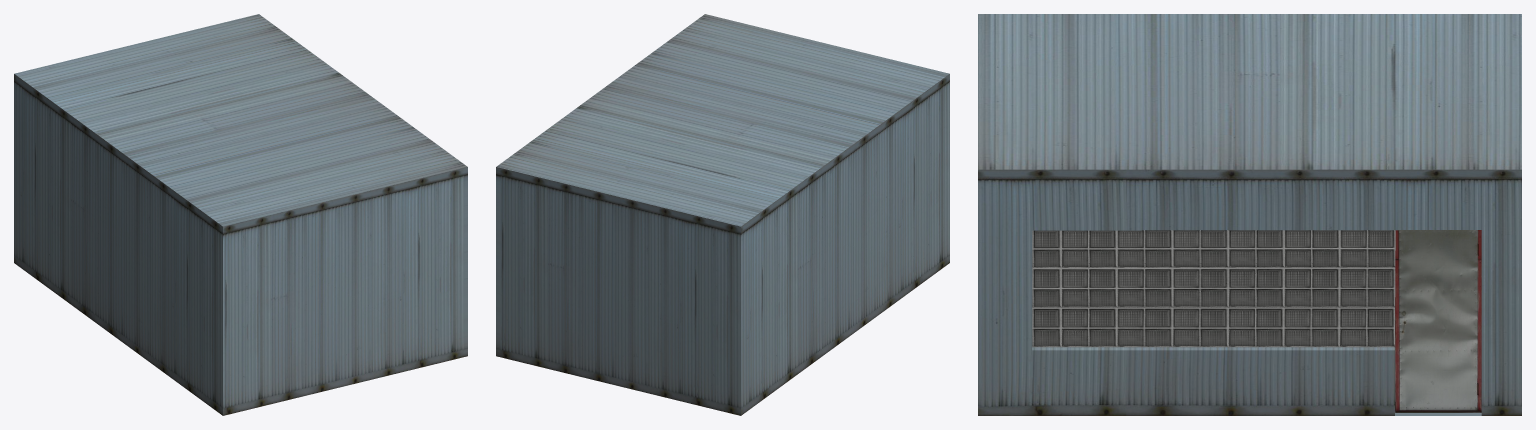
File: kiosk2.fbx
The picture shows the model from 3 angles, left to right: view 1: azimuth 30°, elevation 25°; view 2: azimuth 150°, elevation 25°; view 3: azimuth 270°, elevation 25°; orthographic projection. The views are drawn at different scales.
Visible parts, largest first — view 1: Cube; view 2: Cube; view 3: Cube.
Boxes of the visible parts, x1=… form: Cube: x1=14, y1=14, x2=467, y2=415; Cube: x1=496, y1=14, x2=949, y2=415; Cube: x1=978, y1=14, x2=1521, y2=415.
Size of the model in its own units: 406 by 300 by 600.
